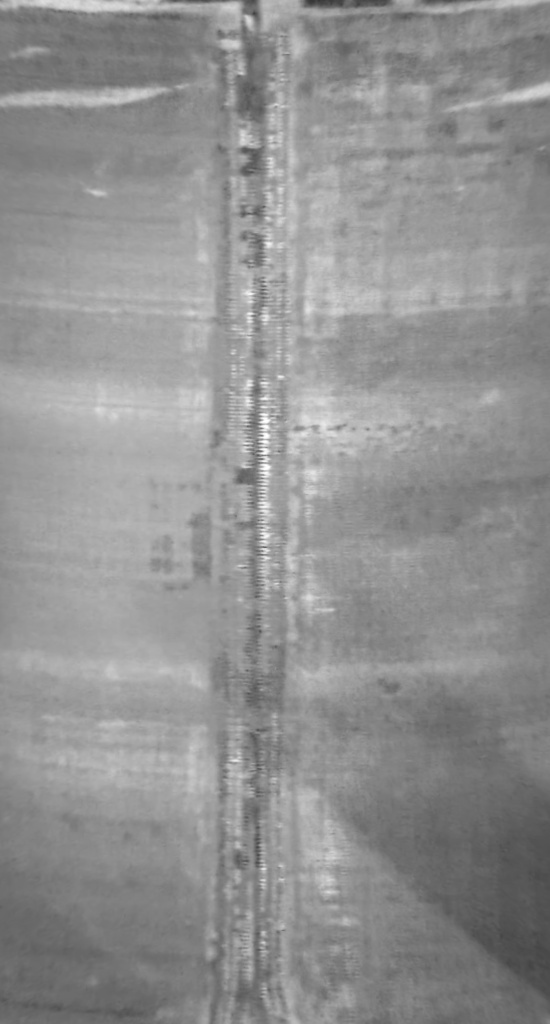splice: (214, 1, 301, 1023)
